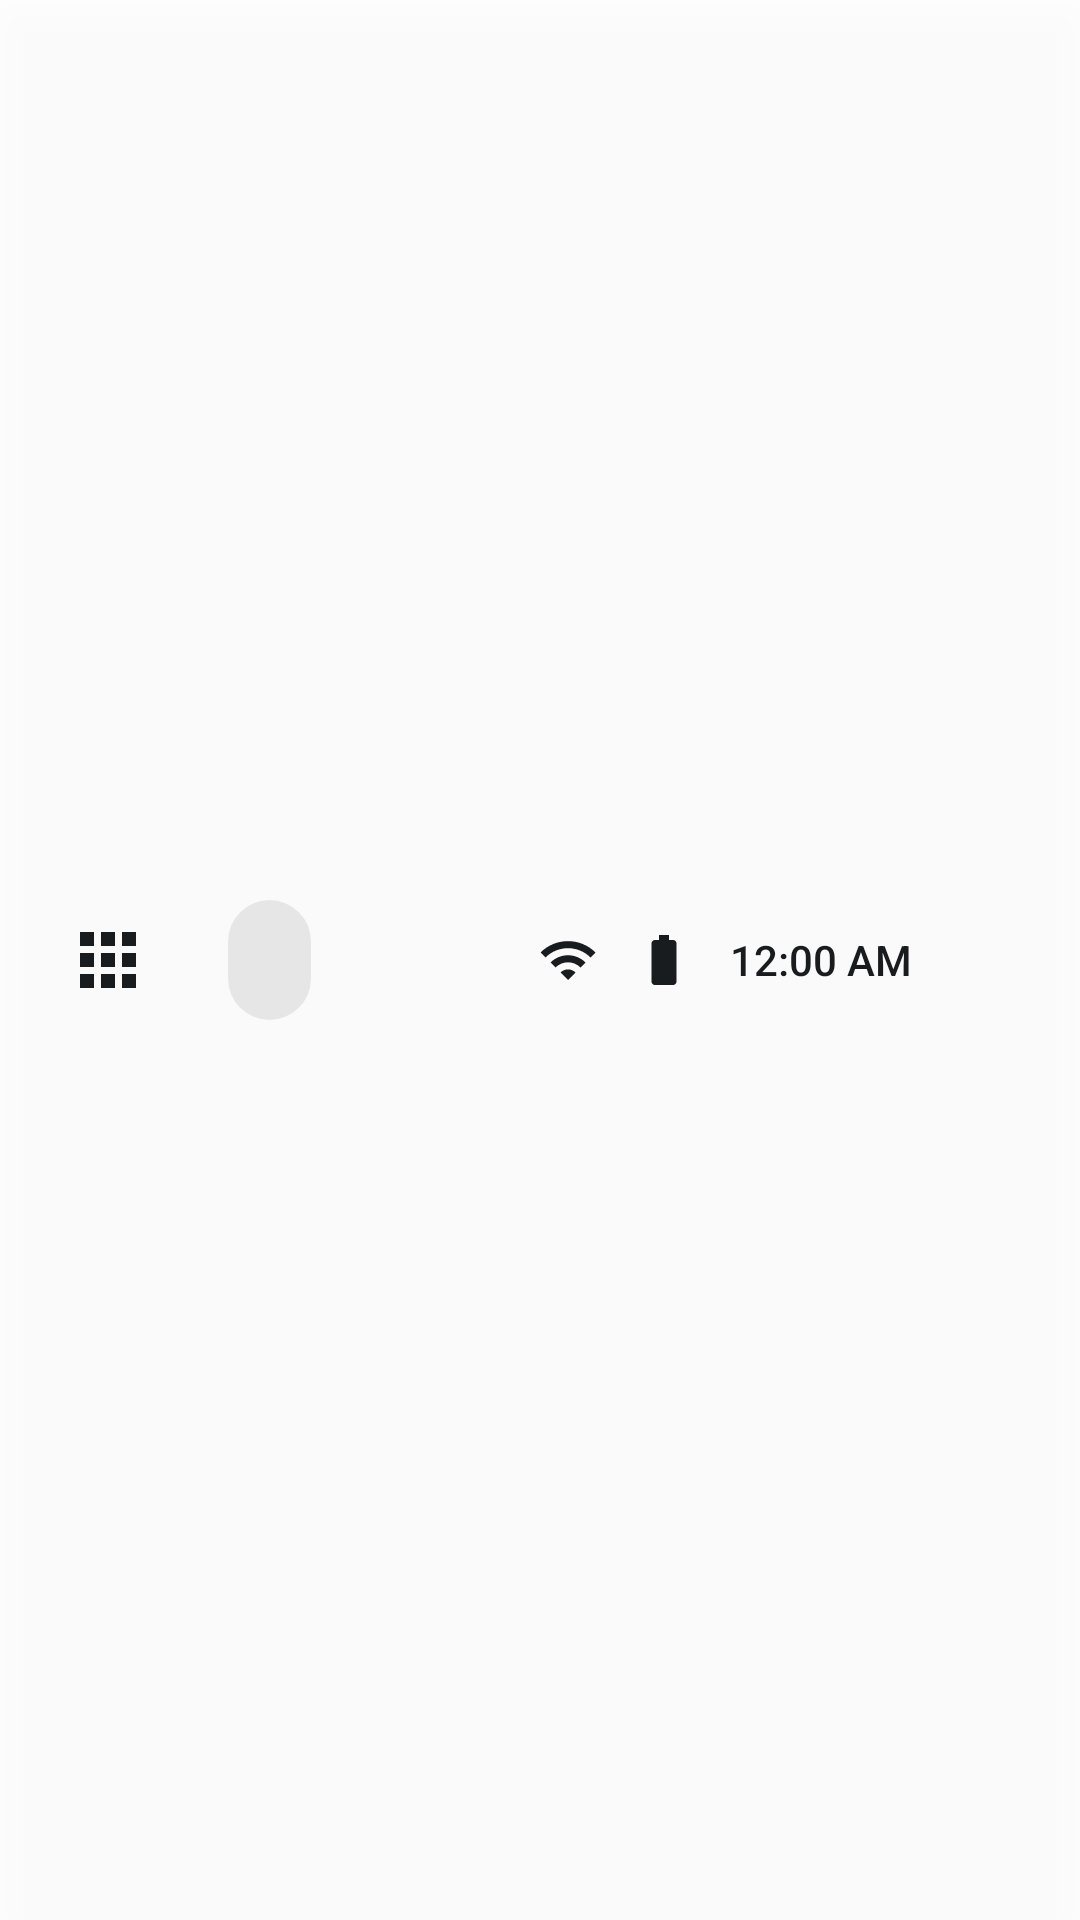

Locate icon controls on the screen. Image size 1080px×1920px, boxes as (x1, y1, x2, y2).
Apps: (80, 932, 136, 988)
battery: (651, 935, 677, 985)
wifi: (540, 941, 596, 980)
